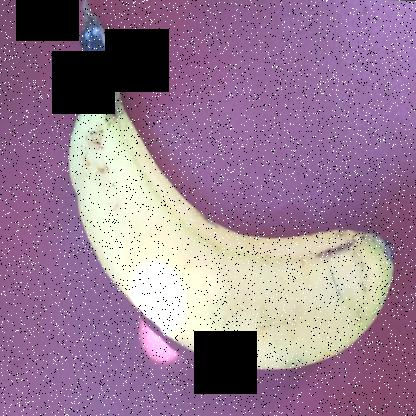freshripe: (52, 78, 384, 381)
